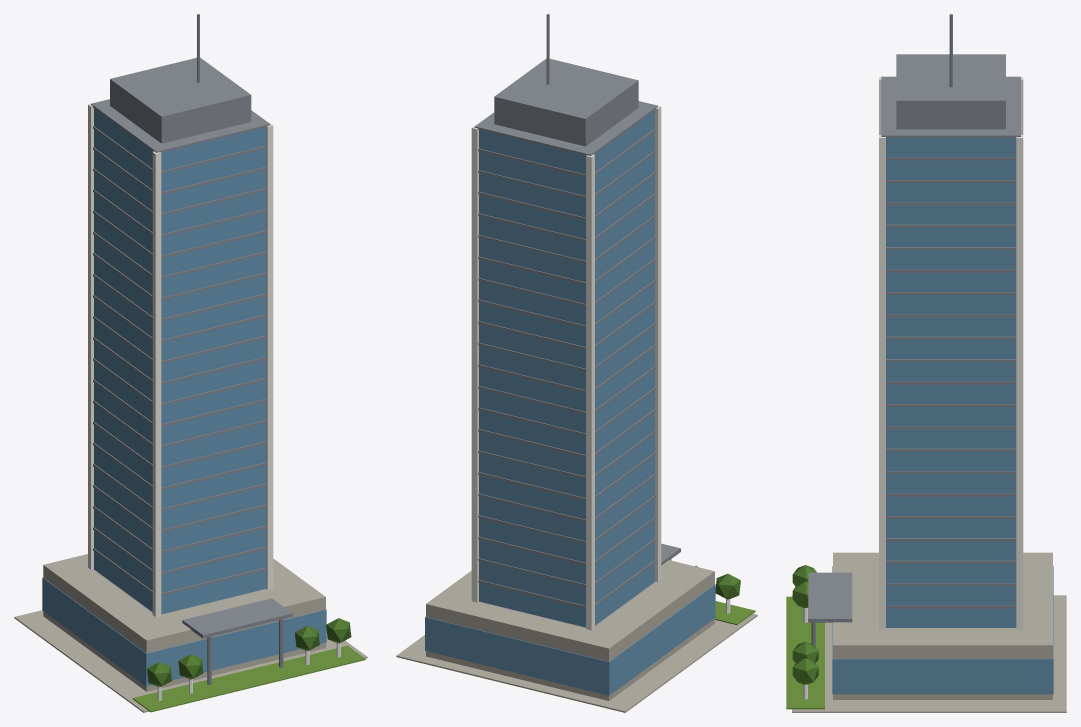
The model's file is rezidans.glb.
3 renders of one model, left to right at view 1: azimuth 30°, elevation 25°; view 2: azimuth 150°, elevation 25°; view 3: azimuth 270°, elevation 25°, orthographic. The views are drawn at different scales.
Parts seen in each view (by area): view 1: Anten; view 2: Anten; view 3: Anten.
Part boxes in pixels (box(x1,y1,x2,y2)): Anten: box(14, 14, 367, 712); Anten: box(396, 14, 757, 712); Anten: box(786, 14, 1066, 712).
Bounding box in the file's own units: 0.9804 × 2.56 × 1.
